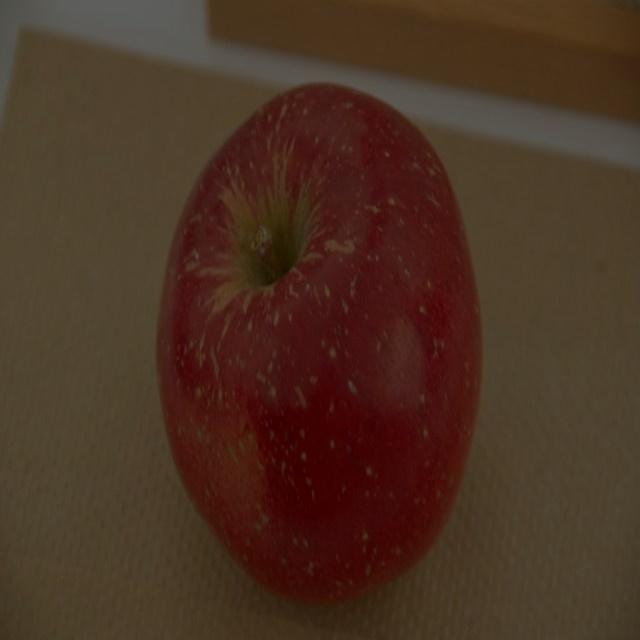red apple: (153, 81, 486, 603)
